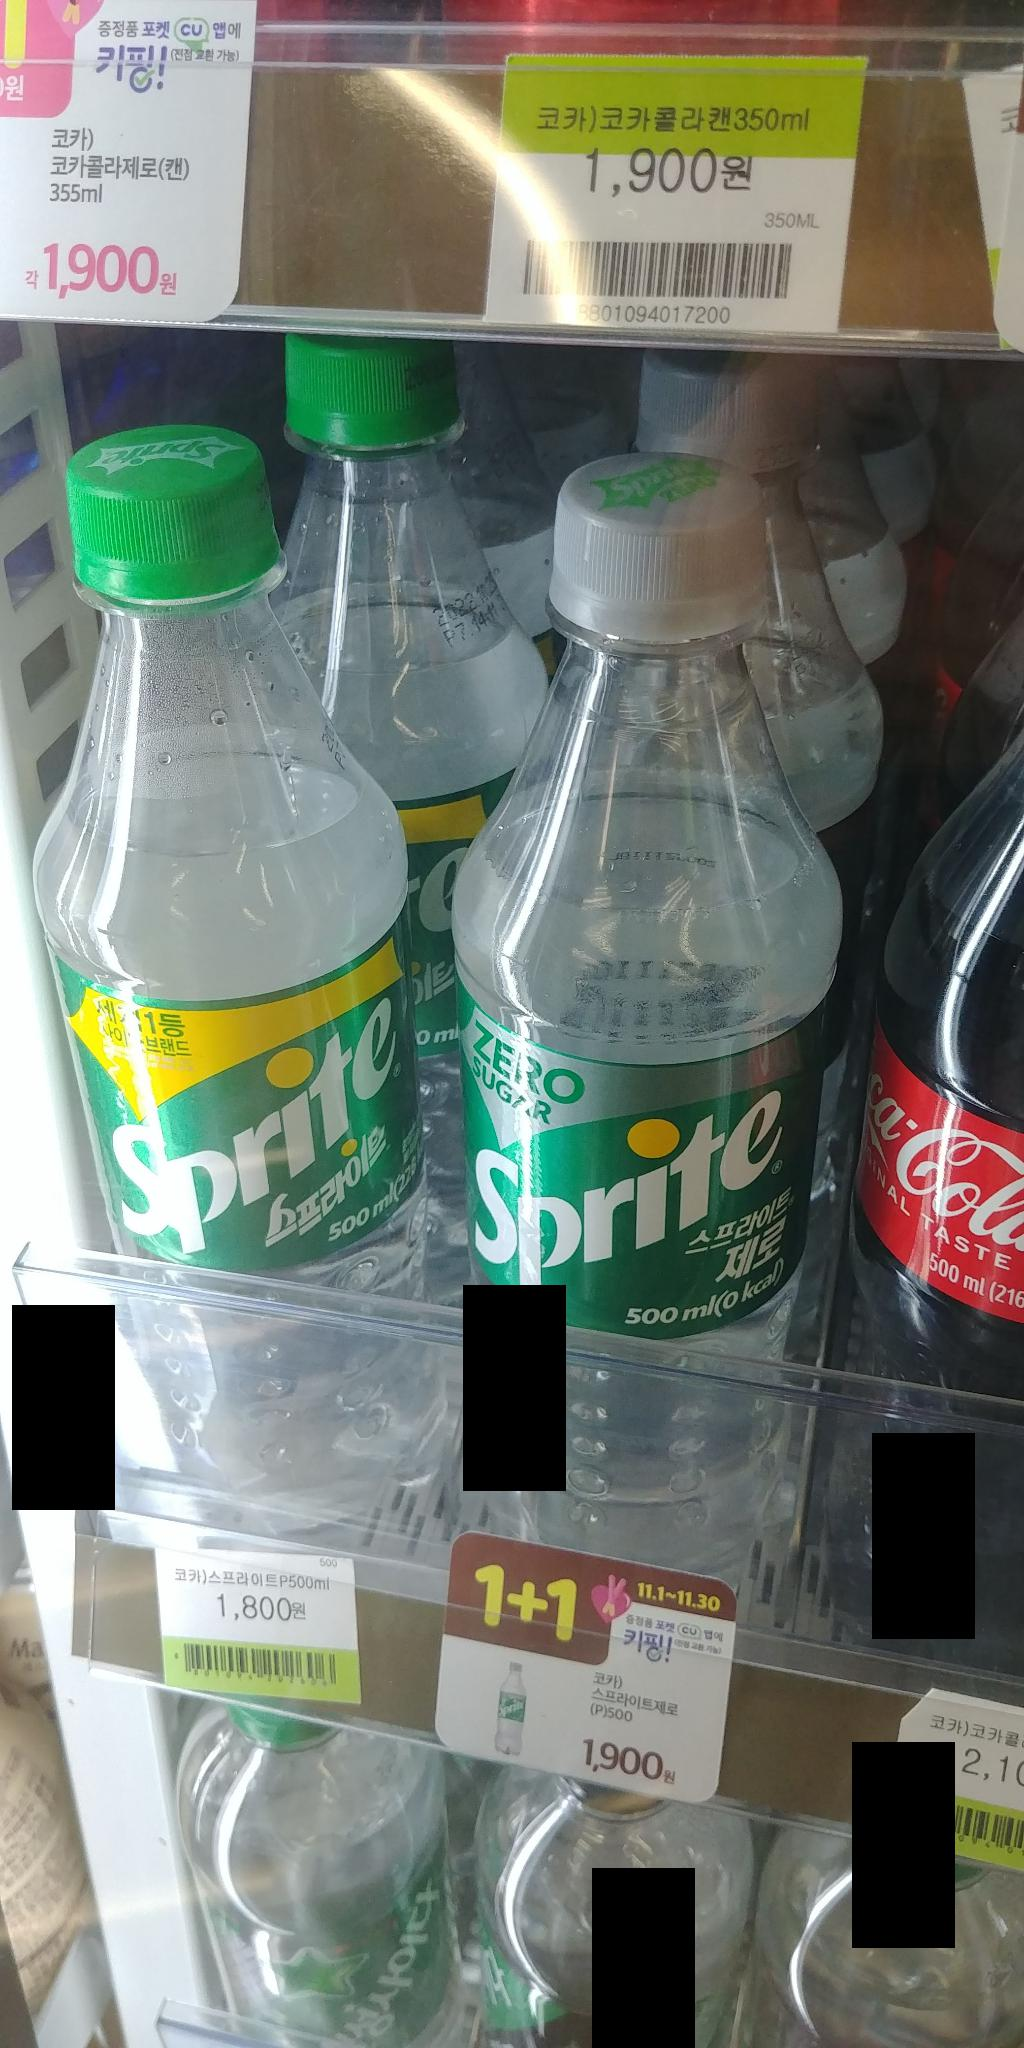sprite_zero: (458, 457, 823, 1591)
